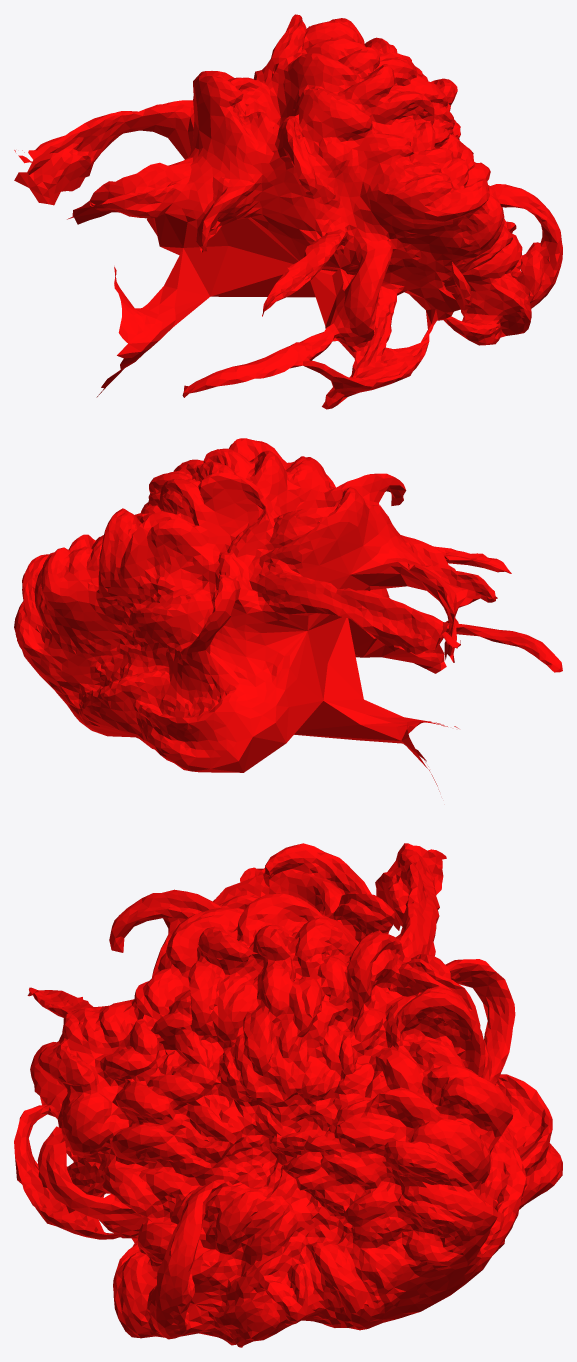
The model's file is flower6.glb.
The picture shows the model from 3 angles, top to bottom: view 1: azimuth 30°, elevation 25°; view 2: azimuth 150°, elevation 25°; view 3: azimuth 270°, elevation 25°; orthographic projection. The views are drawn at different scales.
Bounding box in the file's own units: 160 × 105 × 131.
